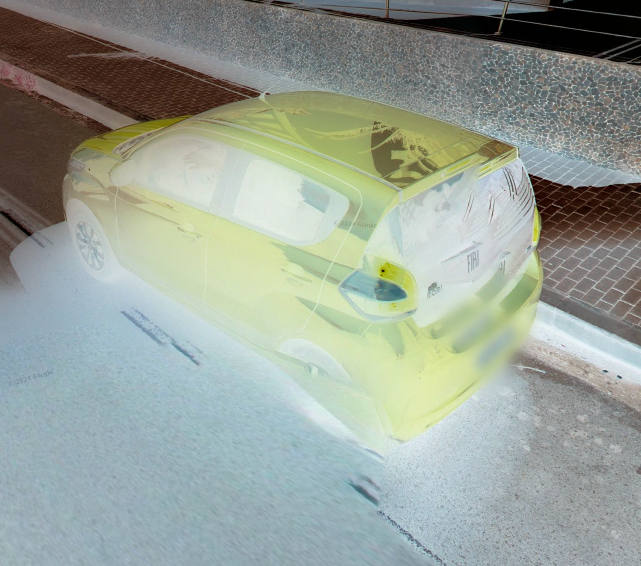car: (56, 63, 548, 460)
